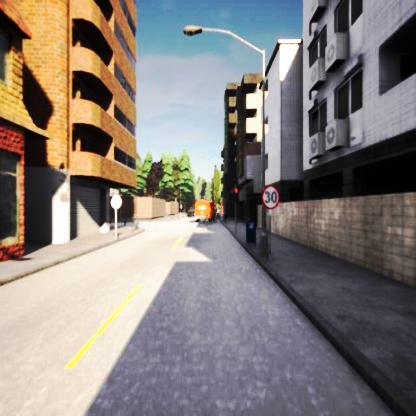vehicle: (194, 200, 214, 221)
